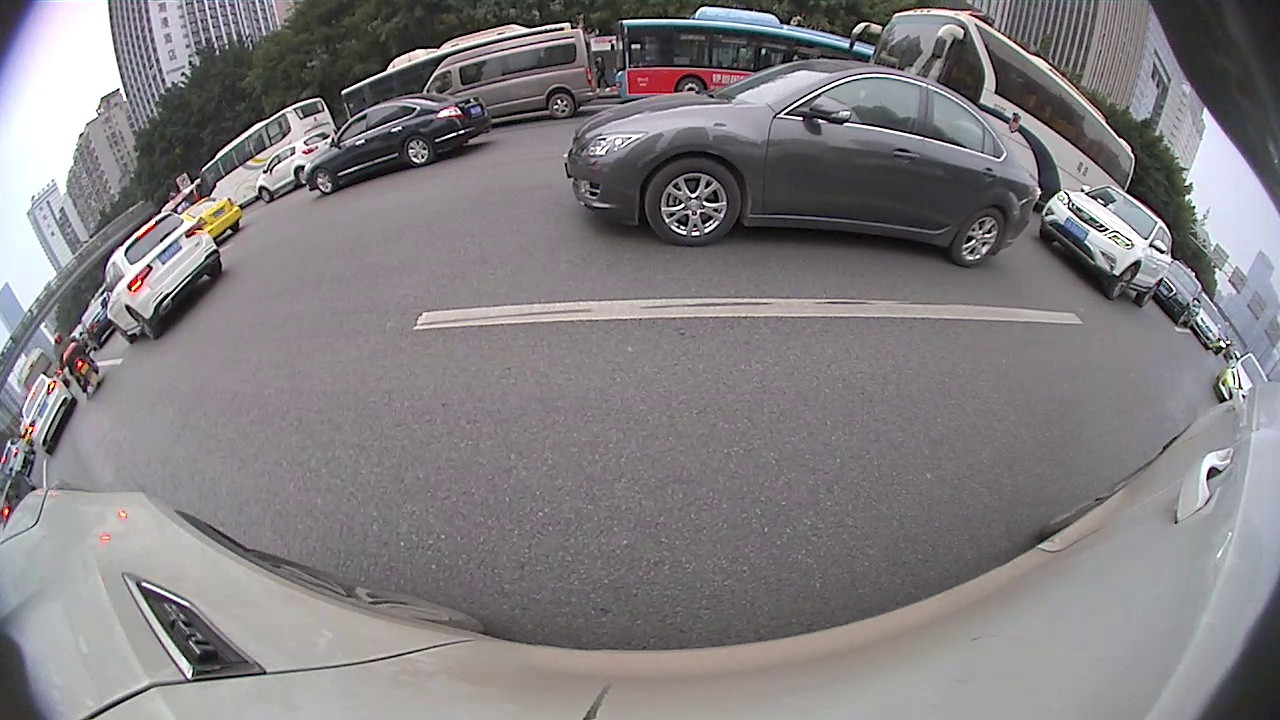bus: (336, 20, 574, 123), (616, 3, 880, 94), (199, 88, 336, 205)
car: (564, 53, 1040, 267), (843, 9, 1136, 206), (300, 89, 495, 198), (100, 205, 224, 346), (418, 25, 599, 120), (1037, 182, 1173, 307), (254, 128, 332, 209), (20, 369, 79, 457), (1215, 348, 1267, 421), (1146, 261, 1196, 320), (183, 193, 245, 240), (76, 300, 121, 348), (1193, 296, 1218, 361), (1, 436, 33, 472)
front: (641, 157, 741, 245), (1102, 263, 1138, 299), (312, 169, 338, 195), (109, 318, 136, 341), (678, 75, 701, 92), (260, 187, 273, 203)
rear: (951, 207, 1007, 267), (127, 307, 159, 337), (405, 136, 431, 165), (1134, 282, 1163, 305), (548, 94, 575, 118), (295, 169, 306, 185)
rider: (49, 336, 107, 403)
